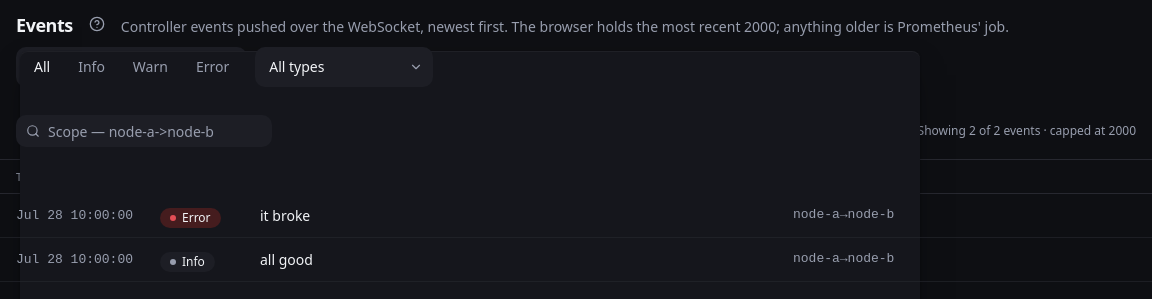
Test case: LivePage › narrows the feed with the severity control
The width and height of the screenshot is (1152, 299).
What coordinates should you click on to do the following:
click the radio button labelled "Error"
I would click on:
 (213, 67)
Its box is [182,51,243,83].
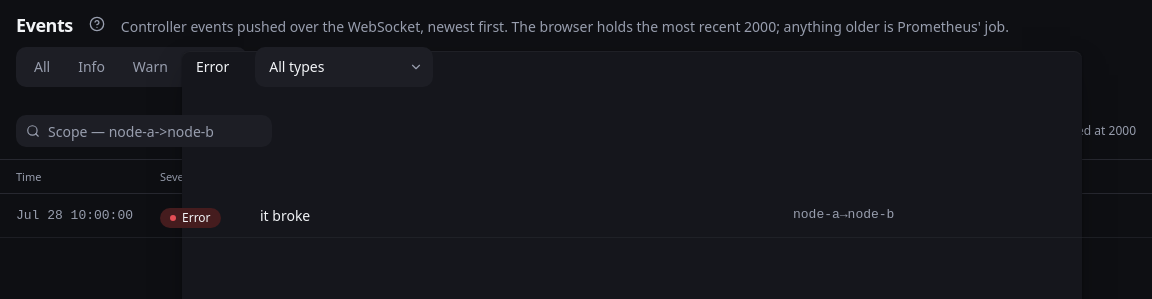
Check: the list item shows "it broke", box [260,206,310,224]
Check: the number of list items is 1, box [0,194,1151,238]
